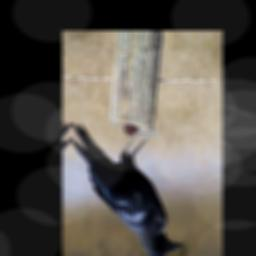Crow: (65, 118, 192, 256)
